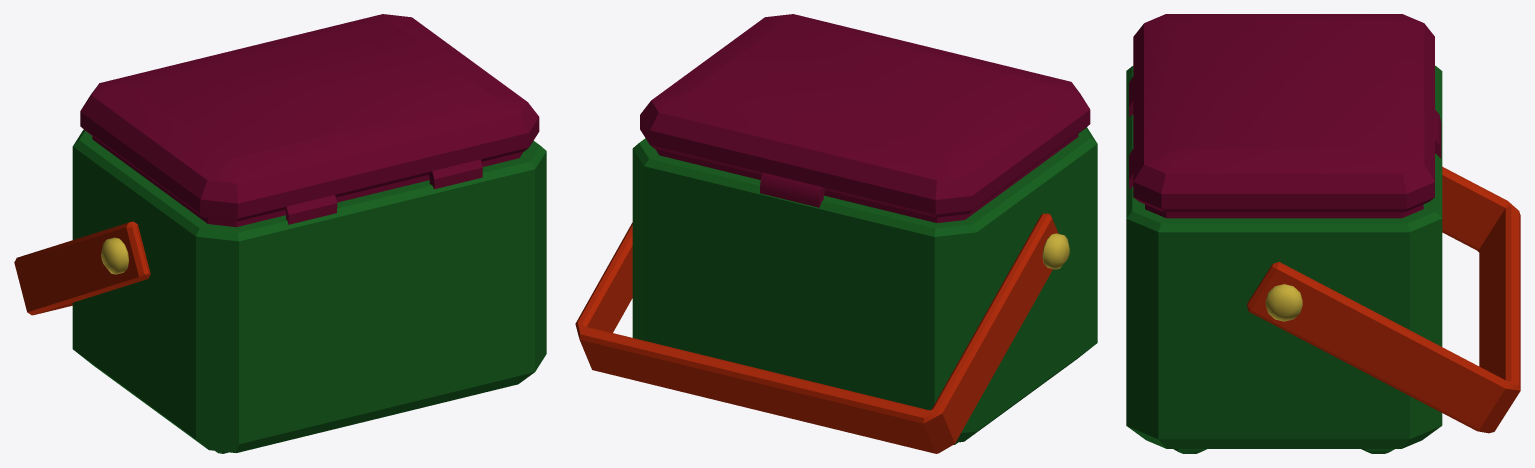
The model's file is Cooler bag.FBX.
The picture shows the model from 3 angles, left to right: view 1: azimuth 30°, elevation 25°; view 2: azimuth 150°, elevation 25°; view 3: azimuth 270°, elevation 25°; orthographic projection. The views are drawn at different scales.
Visible parts, largest first — view 1: Cooler bag; view 2: Cooler bag; view 3: Cooler bag.
Boxes of the visible parts, box(x1,y1,x2,y2) form: Cooler bag: box(14, 14, 546, 453); Cooler bag: box(575, 14, 1097, 453); Cooler bag: box(1126, 14, 1520, 453).
Bounding box in the file's own units: 1049 × 859 × 720.
